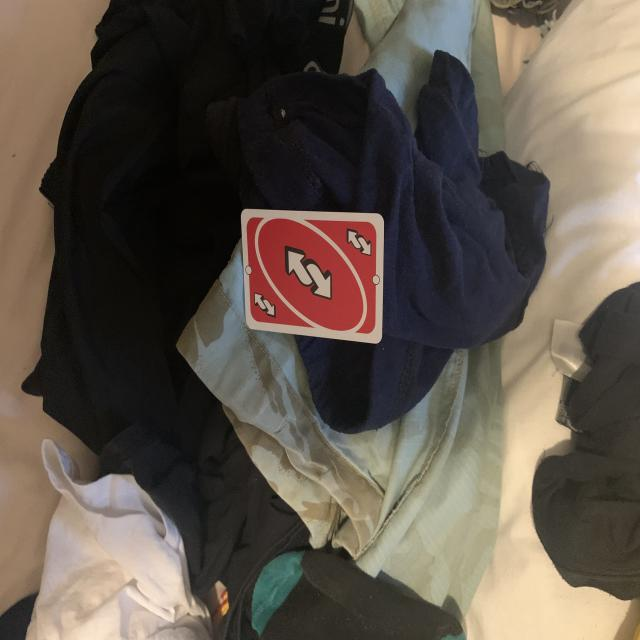lredrevers-20: (342, 225, 375, 259)
